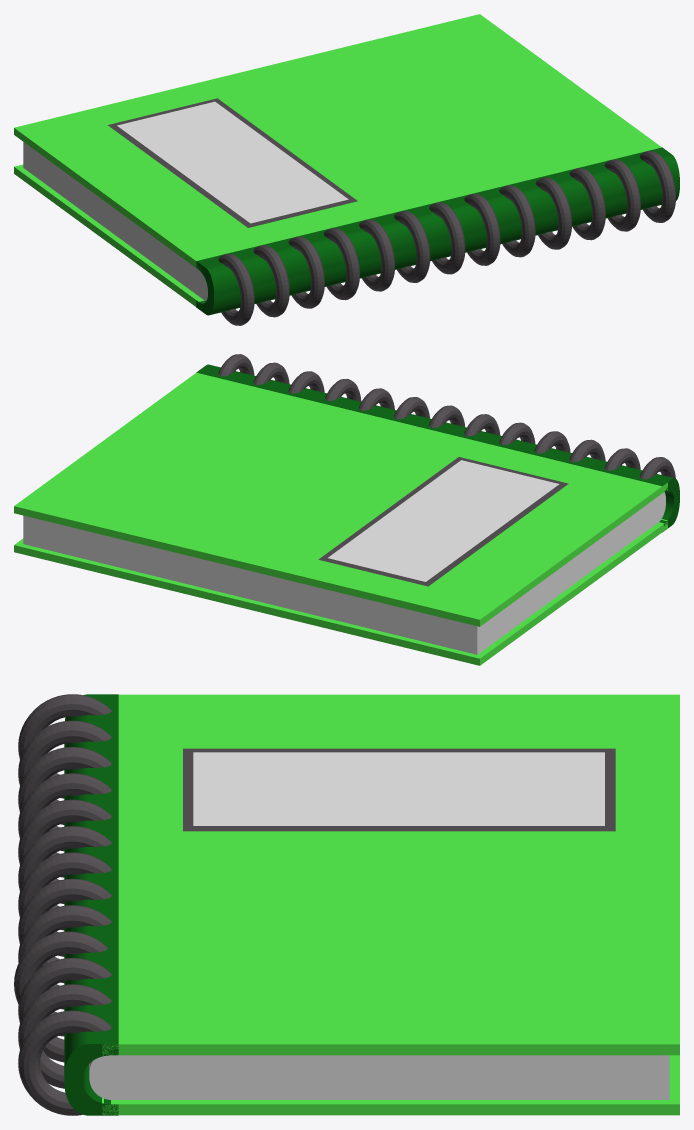
The model's file is book2Green.fbx.
The picture shows the model from 3 angles, top to bottom: view 1: azimuth 30°, elevation 25°; view 2: azimuth 150°, elevation 25°; view 3: azimuth 270°, elevation 25°; orthographic projection. The views are drawn at different scales.
Parts seen in each view (by area): view 1: Cube.001, Cube.004, Plane.001, Cube.002, Plane, Torus.009, Torus, Torus.008, Torus.006, Torus.007, Torus.004, Torus.005 (+6 smaller); view 2: Cube.001, Cube.002, Plane.001, Cube.004, Plane, Torus.009, Torus.012, Torus.003, Torus, Torus.004, Torus.005, Torus.008 (+6 smaller); view 3: Cube.001, Plane.001, Cube.002, Cube.004, Plane, Torus.012, Torus.011, Torus.010, Torus.009, Cube.003, Torus.007, Torus.003 (+7 smaller).
Part boxes in pixels (x1,y1,x2,y2): Cube.001: (14,14,661,308); Cube.004: (196,147,679,315); Plane.001: (117,101,348,223); Cube.002: (23,142,196,293); Plane: (108,98,357,227); Torus.009: (536,177,571,249); Torus: (429,202,465,274); Torus.008: (499,185,535,257); Torus.006: (218,253,254,325); Torus.007: (464,193,500,265); Torus.004: (288,236,324,308); Torus.005: (253,245,289,317); Cube.001: (14,372,667,665); Cube.002: (23,503,649,654); Plane.001: (328,460,559,581); Cube.004: (196,364,679,532); Plane: (318,457,568,586); Torus.009: (325,379,361,401); Torus.012: (218,354,254,376); Torus.003: (534,431,570,453); Torus: (429,405,464,427); Torus.004: (569,439,605,462); Torus.005: (604,448,640,470); Torus.008: (359,388,394,410); Cube.001: (102,694,679,1115); Plane.001: (193,752,604,825); Cube.002: (137,1055,669,1099); Cube.004: (64,694,118,1115); Plane: (183,748,615,831); Torus.012: (18,1010,111,1115); Torus.011: (18,984,111,1088); Torus.010: (18,958,111,1062); Torus.009: (14,931,107,1036); Cube.003: (89,1055,139,1099); Torus.007: (18,878,111,982); Torus.003: (18,773,111,877).
Size of the model in its own units: 398 by 55 by 320.
